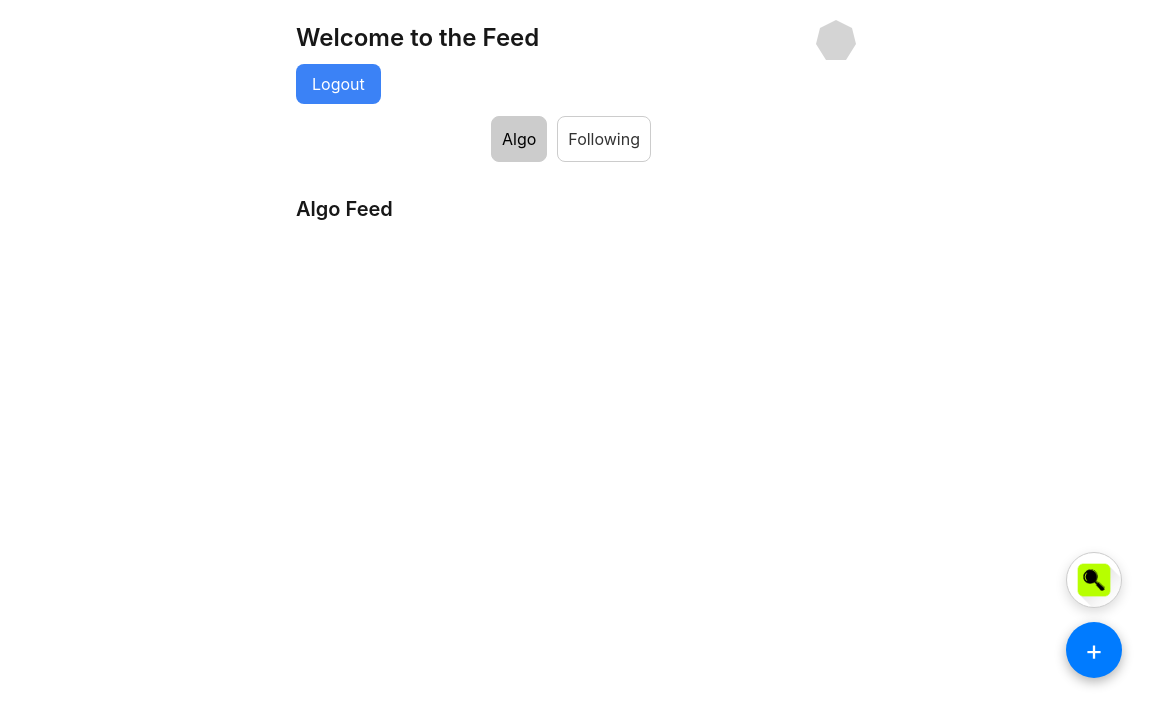
Test: Regression #23: Composer is in FAB modal, not inline › clicking FAB opens composer modal
Click the button named "New post". click: (1094, 650)
box: [1066,622,1122,678]
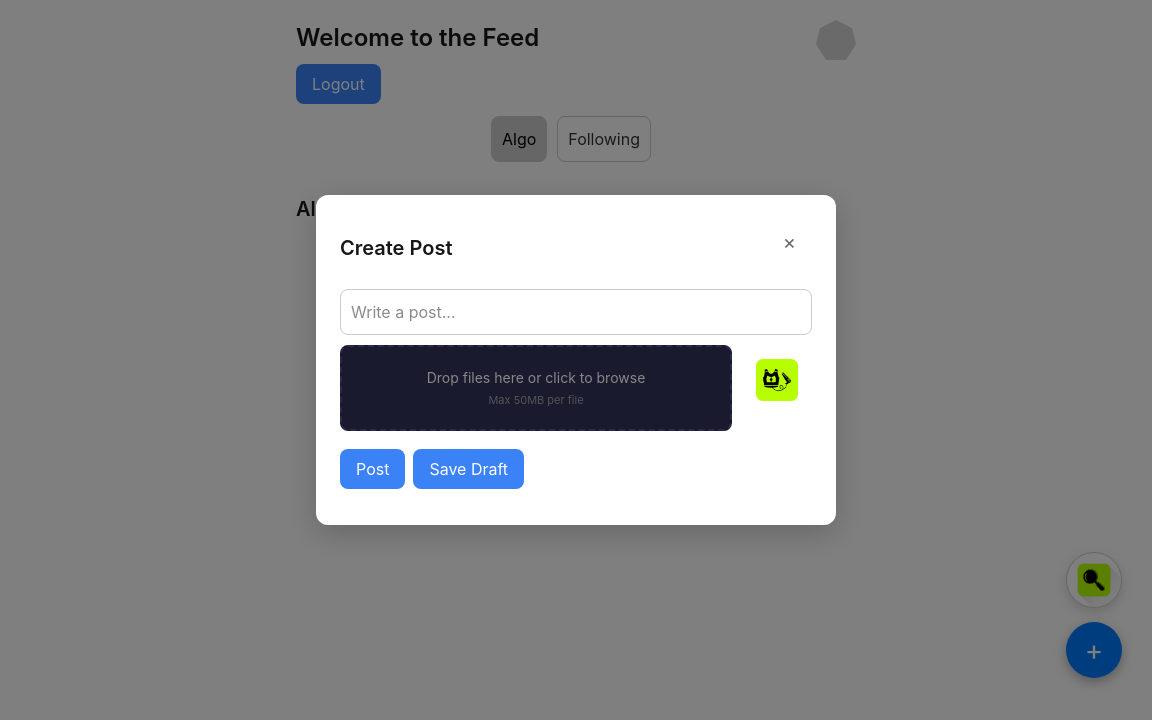
Expected: the heading "Create Post" is shown, [340,233,452,263]
Expected: the field with placeholder "Write a post..." is shown, [340,289,812,335]
